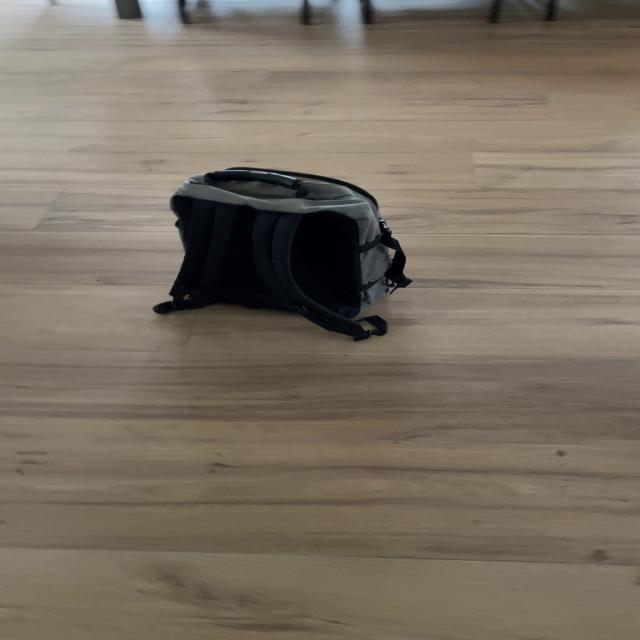backpack: (153, 159, 422, 344)
